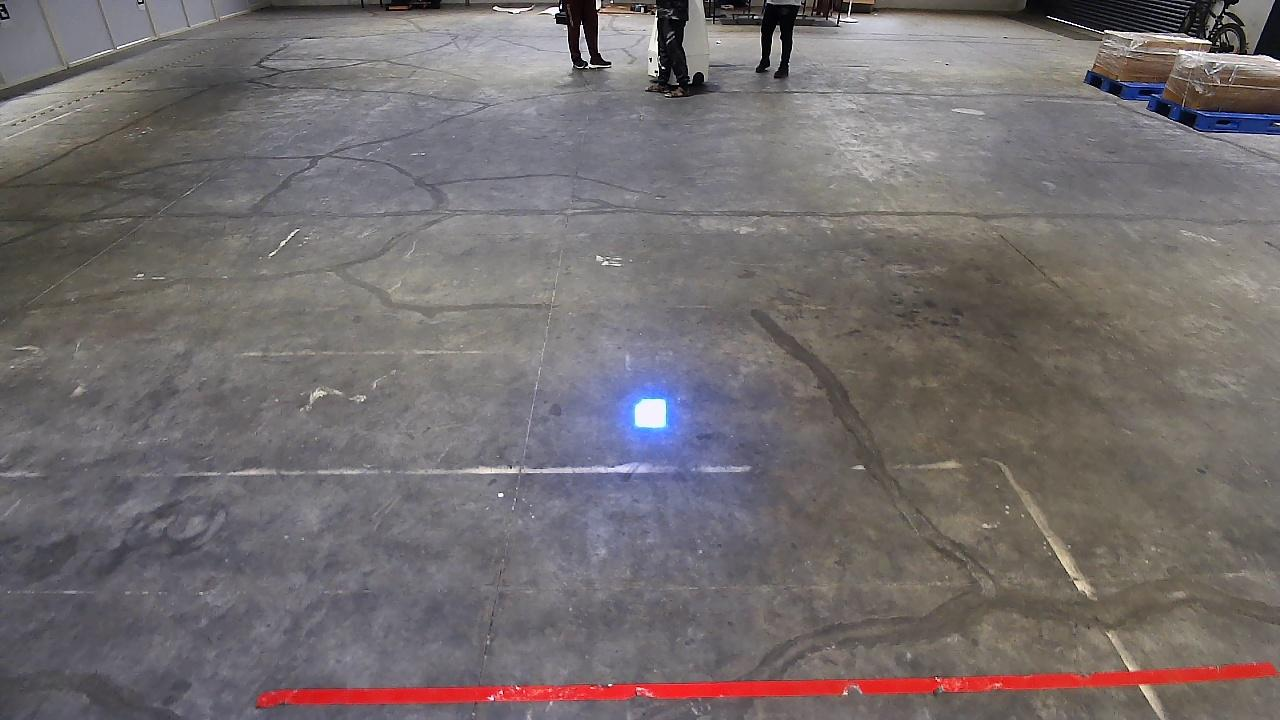red_line: (253, 659, 1280, 710)
